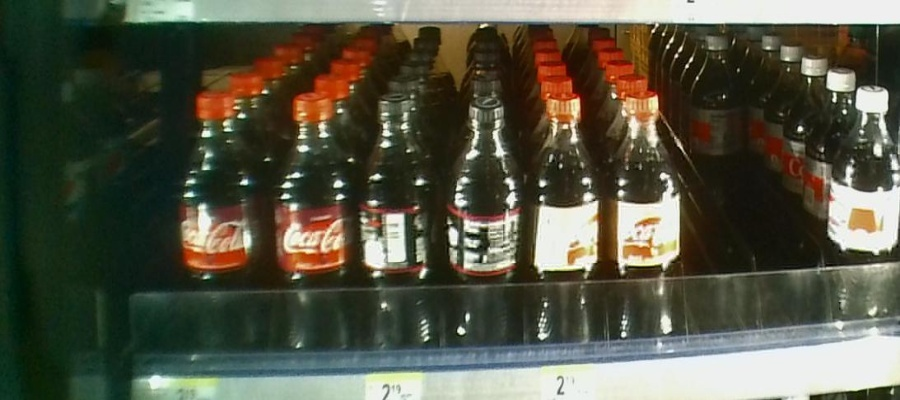bottle: (348, 88, 441, 363), (176, 88, 265, 353), (268, 88, 350, 361), (443, 89, 522, 362), (523, 91, 603, 348), (607, 83, 680, 351), (827, 83, 900, 322), (691, 34, 749, 181)
